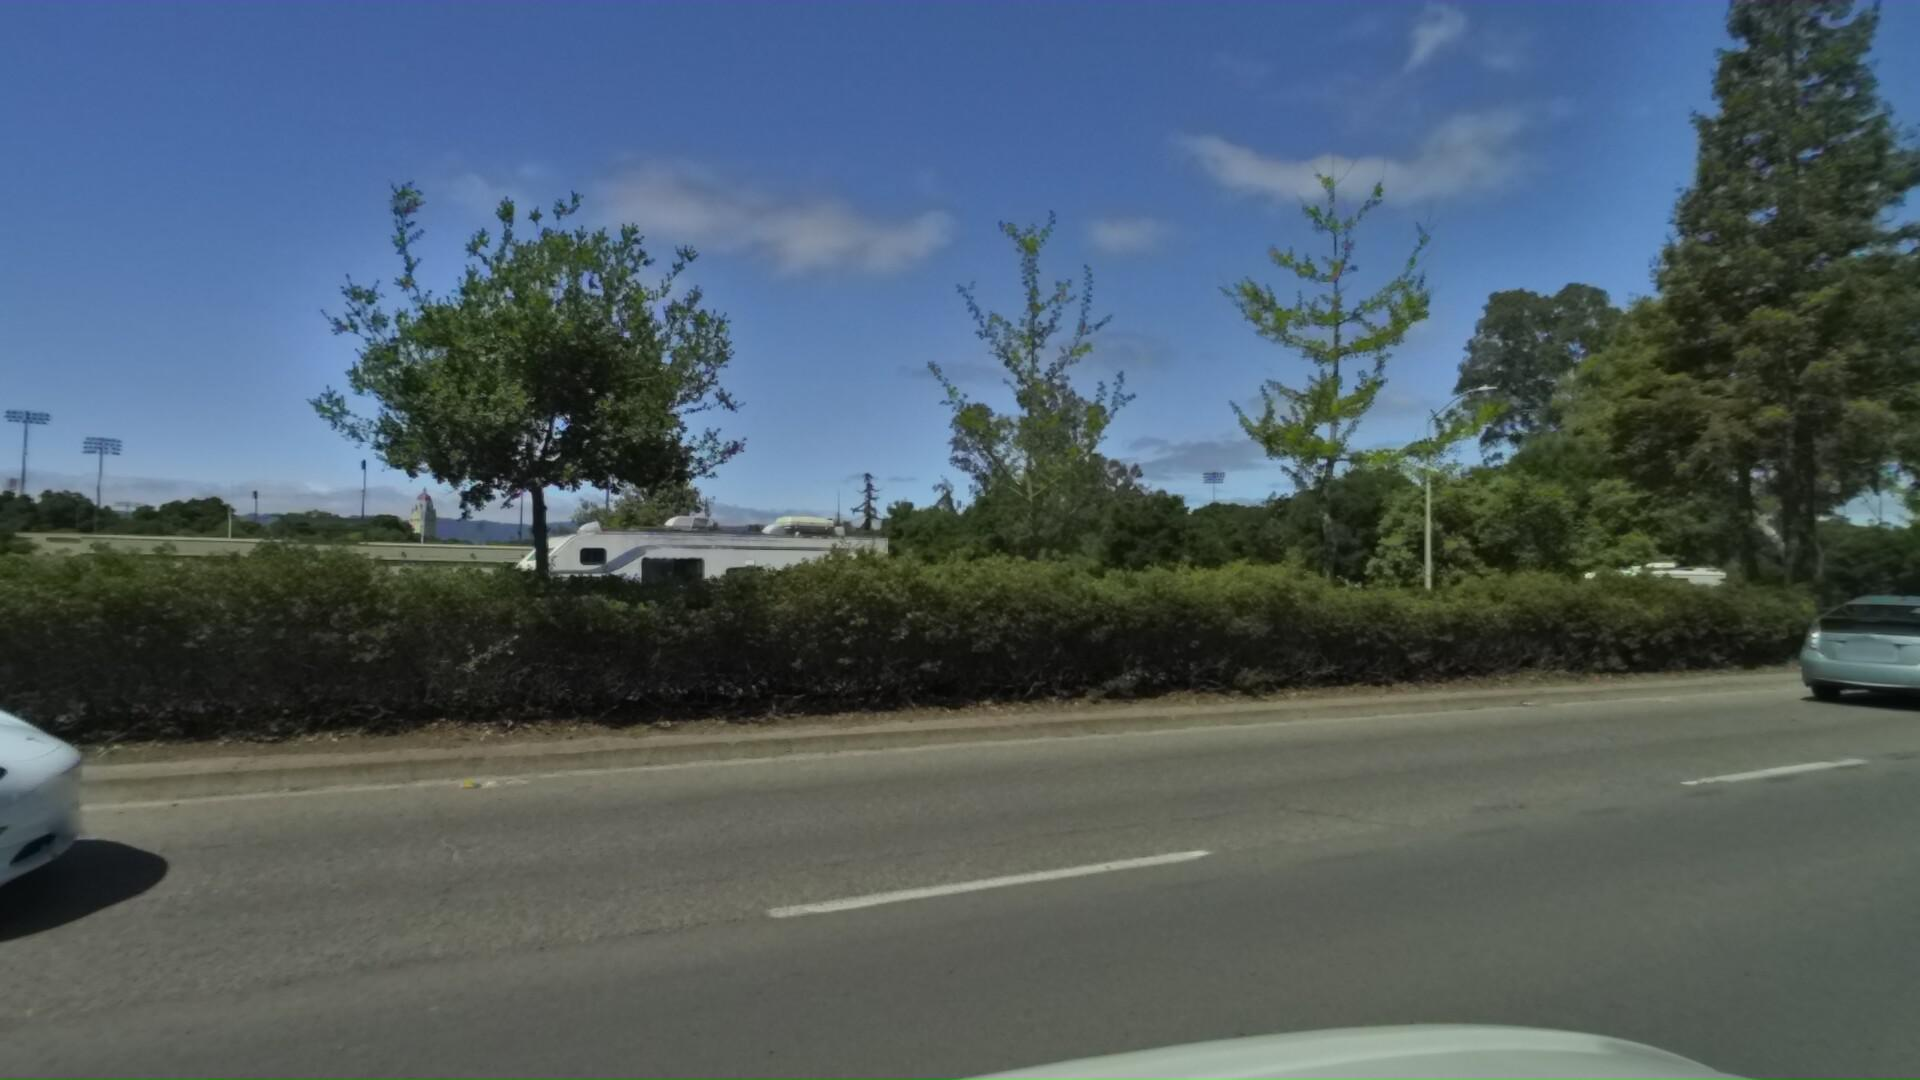car: (0, 479, 127, 1080), (1793, 592, 1920, 723)
other_vehicle: (454, 484, 884, 680), (1556, 550, 1725, 640)
